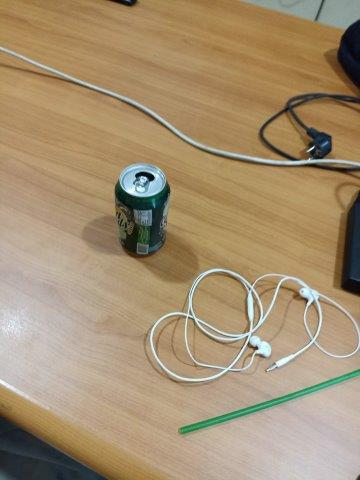kaleng: (114, 163, 171, 258)
